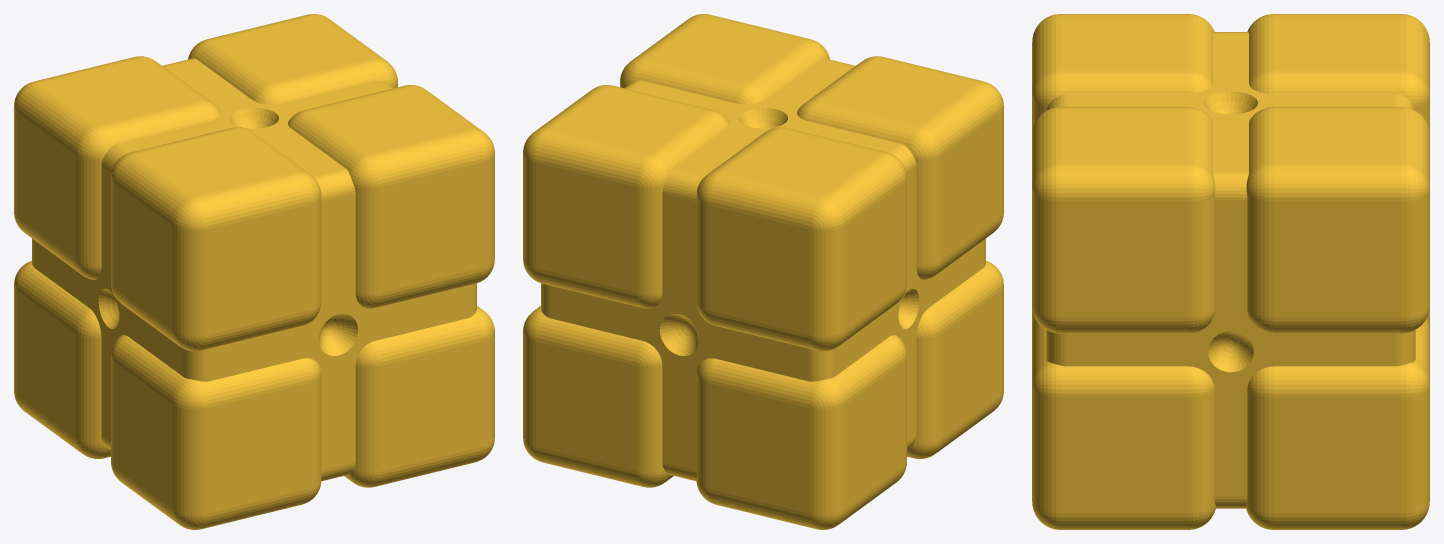
The model's file is Neuenfeldt.obj.
3 renders of one model, left to right at view 1: azimuth 30°, elevation 25°; view 2: azimuth 150°, elevation 25°; view 3: azimuth 270°, elevation 25°, orthographic. The views are drawn at different scales.
Parts seen in each view (by area): view 1: obj_0; view 2: obj_0; view 3: obj_0.
Boxes of the visible parts, box(x1,y1,x2,y2) form: obj_0: box(14, 14, 494, 529); obj_0: box(523, 14, 1003, 529); obj_0: box(1032, 14, 1429, 529).
Bounding box in the file's own units: 28.5 × 28.25 × 28.
